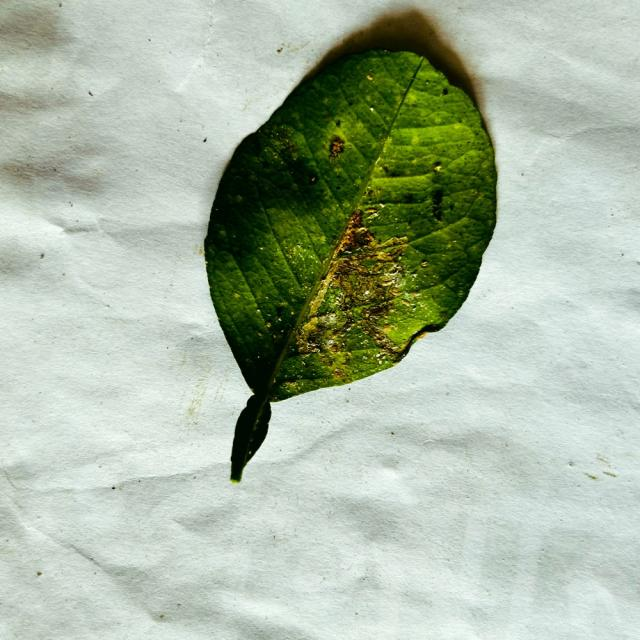Bacterial_Blight: (304, 233, 402, 317), (266, 128, 300, 164), (340, 221, 378, 253), (281, 236, 313, 262), (329, 138, 345, 159), (384, 236, 406, 249), (322, 312, 340, 327), (364, 207, 379, 215), (285, 380, 298, 389)
Lemon: (202, 46, 499, 485)
